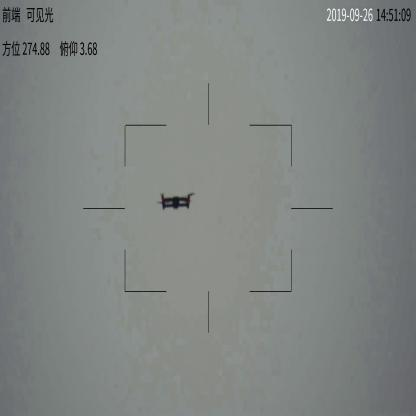uav: (156, 187, 194, 213)
